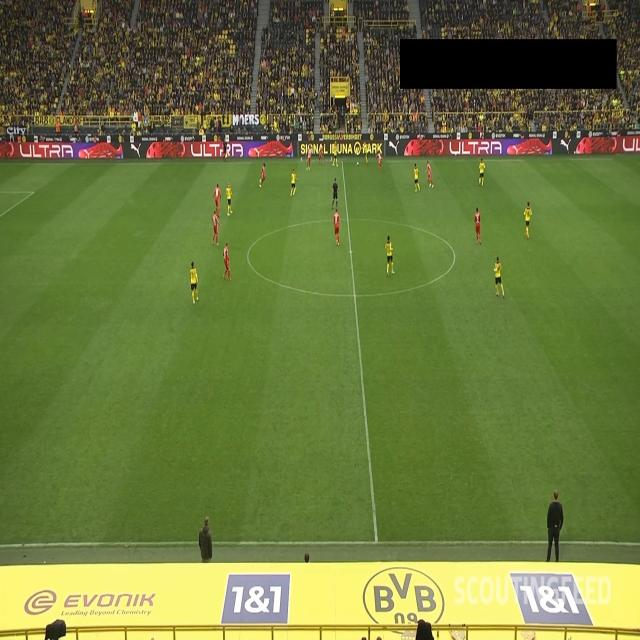ball: (356, 160, 359, 167)
